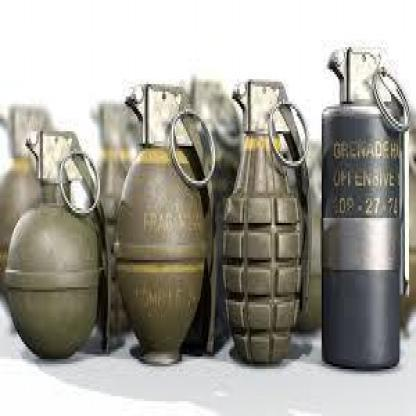Grenade: (319, 40, 411, 370), (112, 80, 217, 367), (221, 74, 311, 364), (2, 127, 110, 362)
